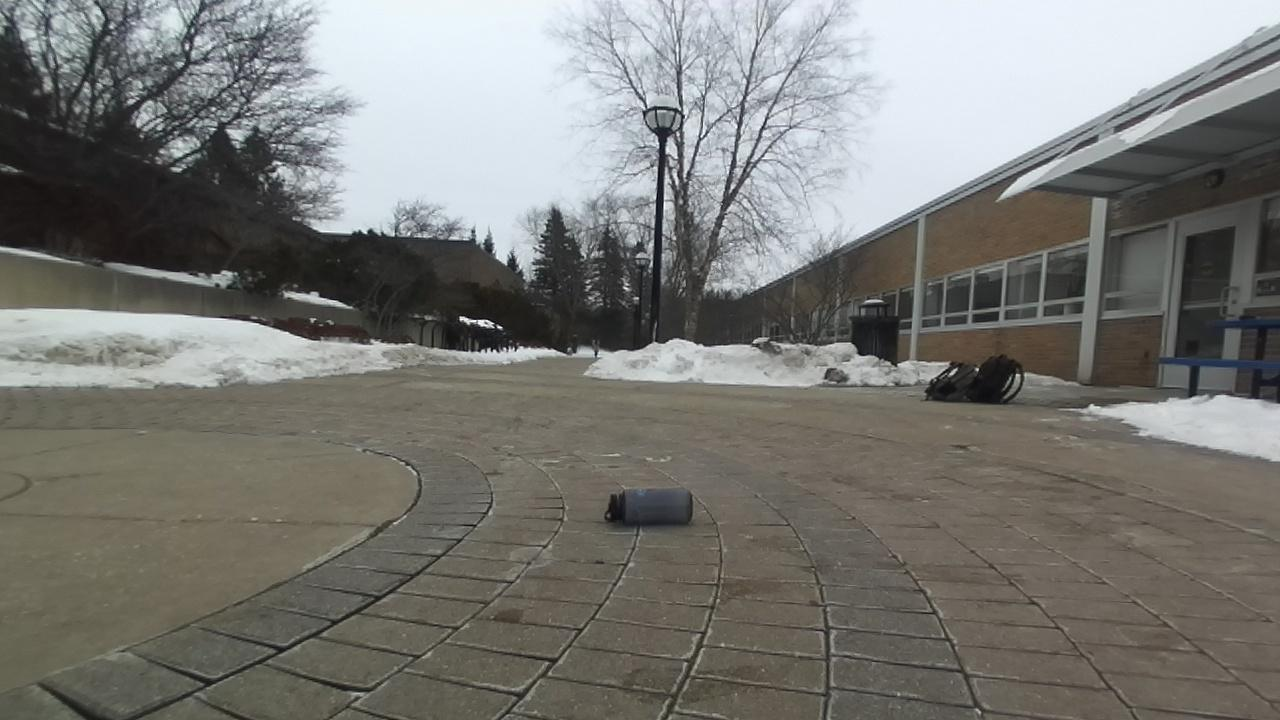bottle: (605, 488, 693, 524)
